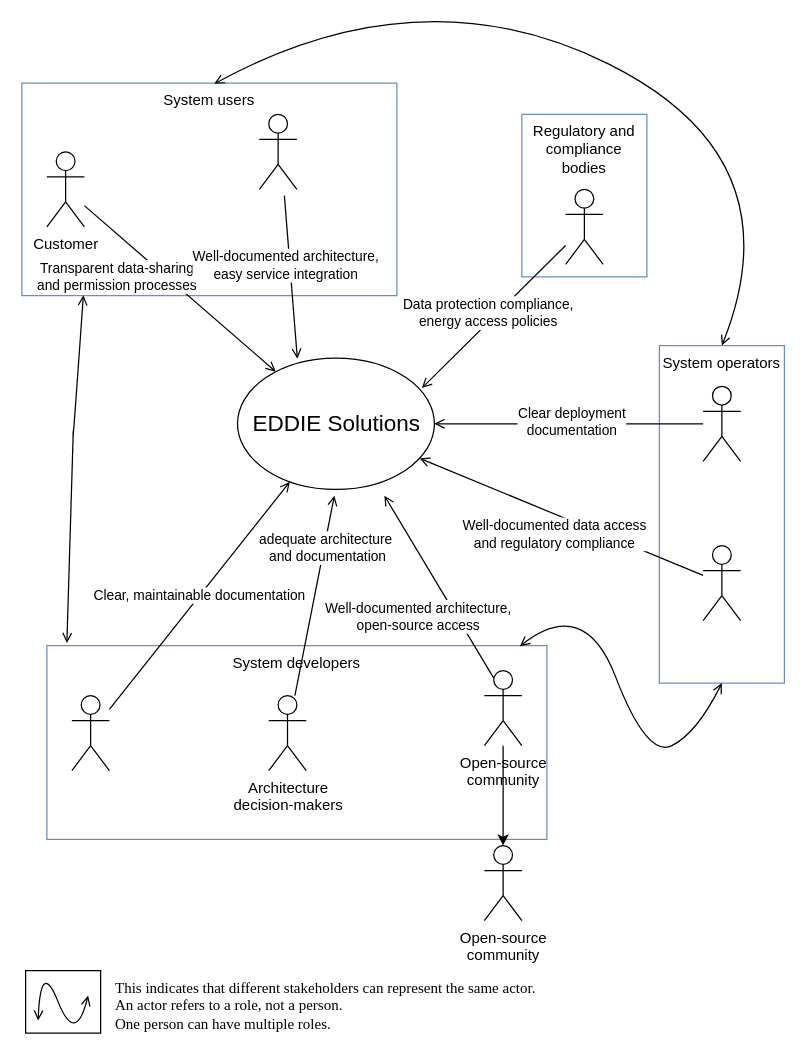
This 806x1056 diagram has some shape labels left out. Each missing label, with the centre of its shape:
Eddie project developers: (90,732)
Eliglible party: (277,151)
Energy data sharing operator: (721,582)
IT system operator: (721,423)
